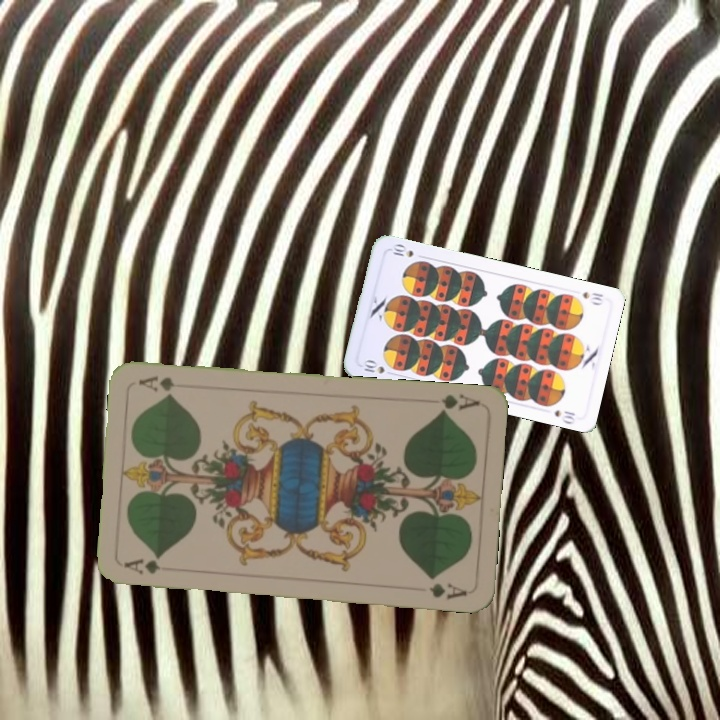GA: (433, 390, 482, 416), (120, 554, 163, 578)
S10: (359, 356, 387, 376), (579, 288, 606, 308)
